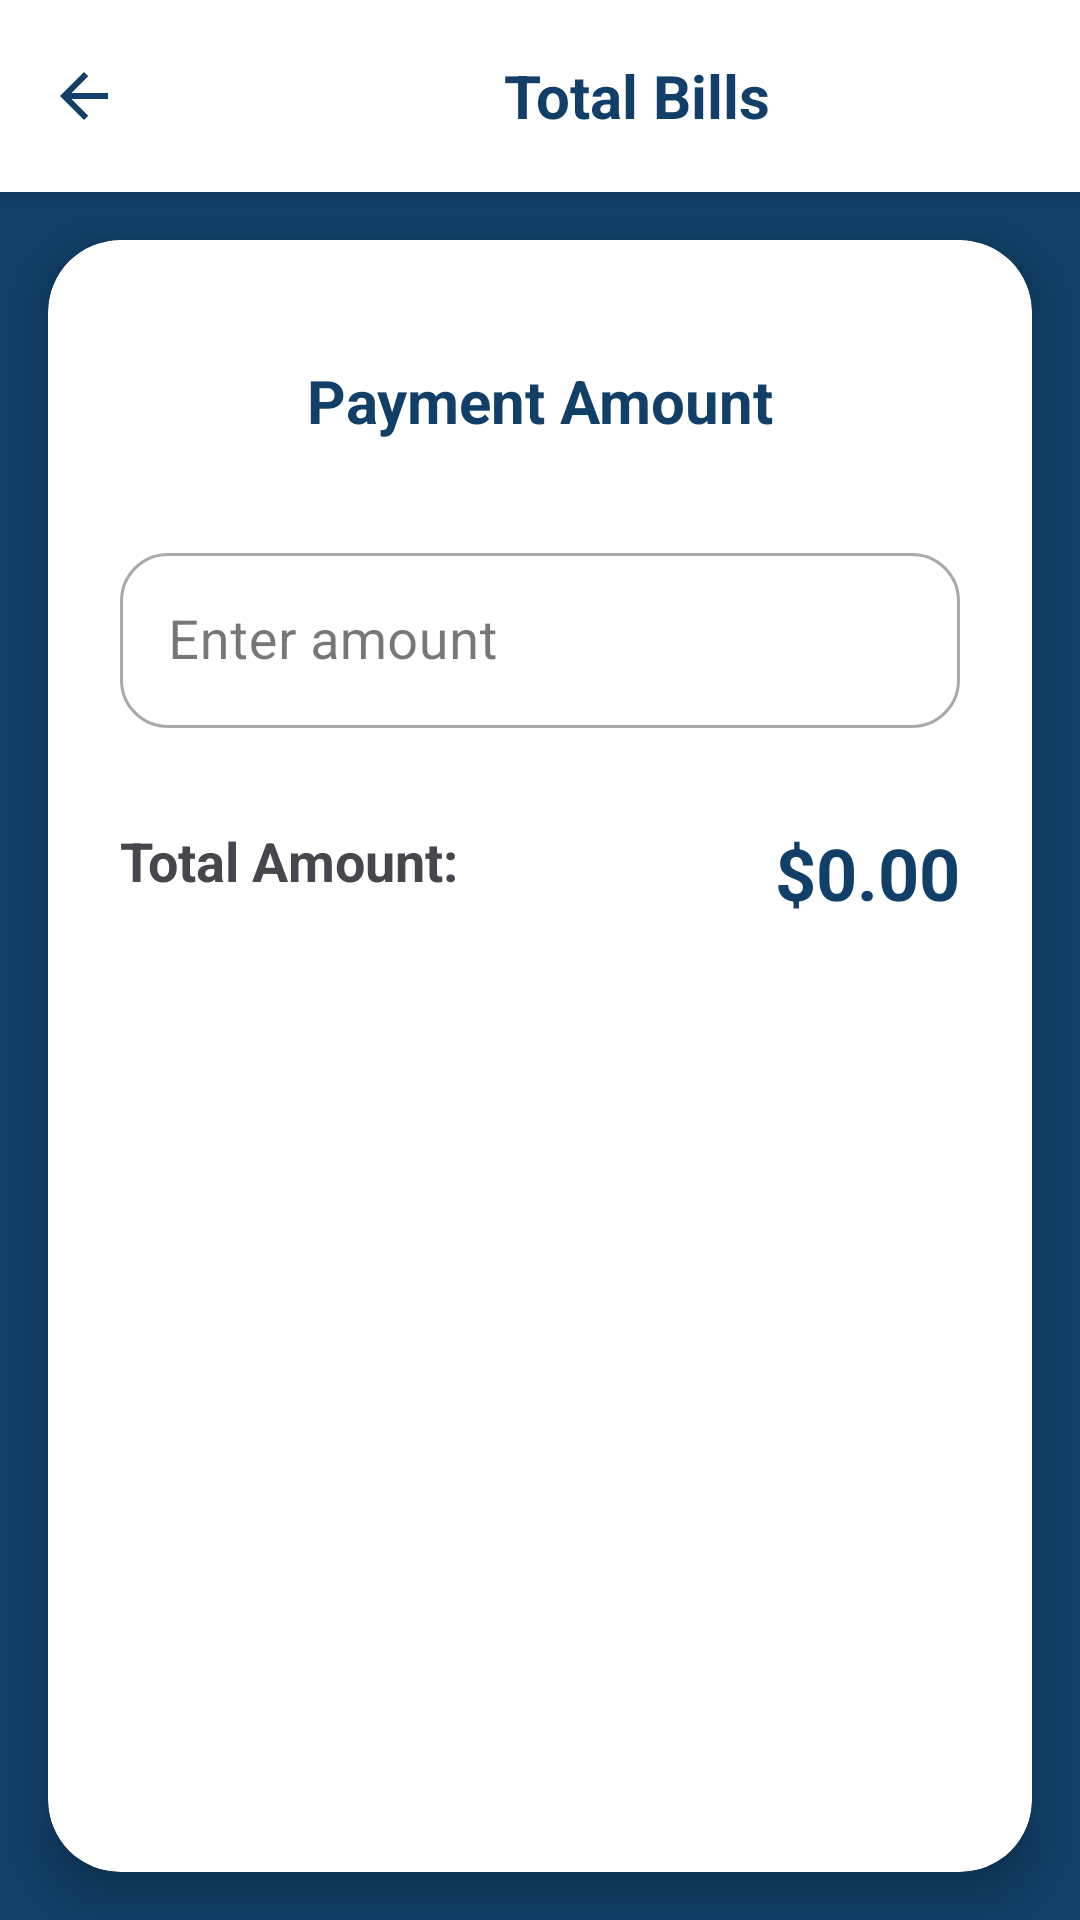

Icon bounding boxes for this 1080×1920 phone screenshot, format (x1=x1, y1=y1, x2=x2, y2=y2):
Back button: (x1=60, y1=72, x2=108, y2=120)
